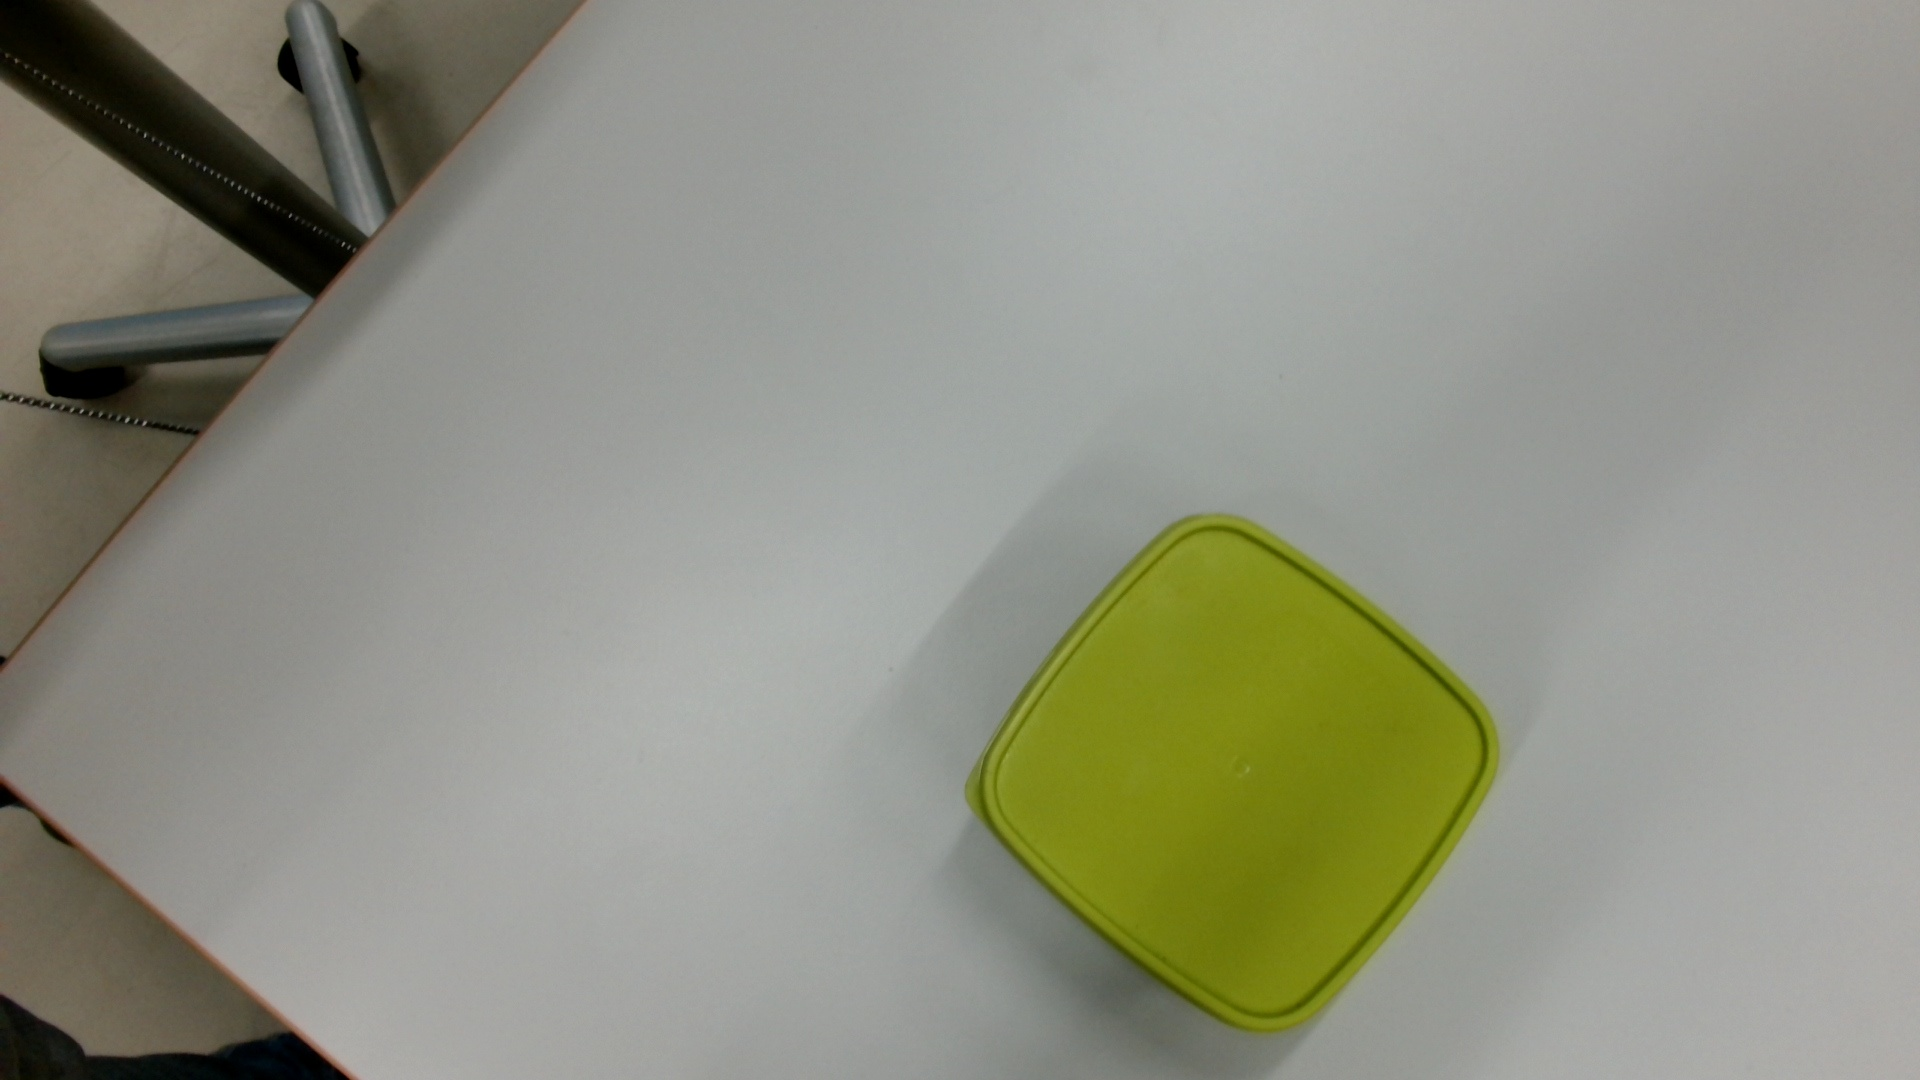Box: (961, 509, 1510, 1044)
